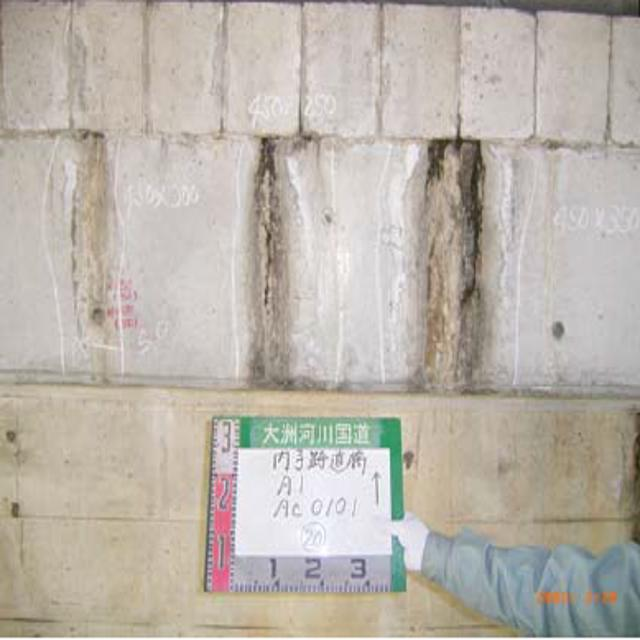freelime: (393, 121, 514, 380), (237, 118, 306, 406), (48, 126, 132, 360)
